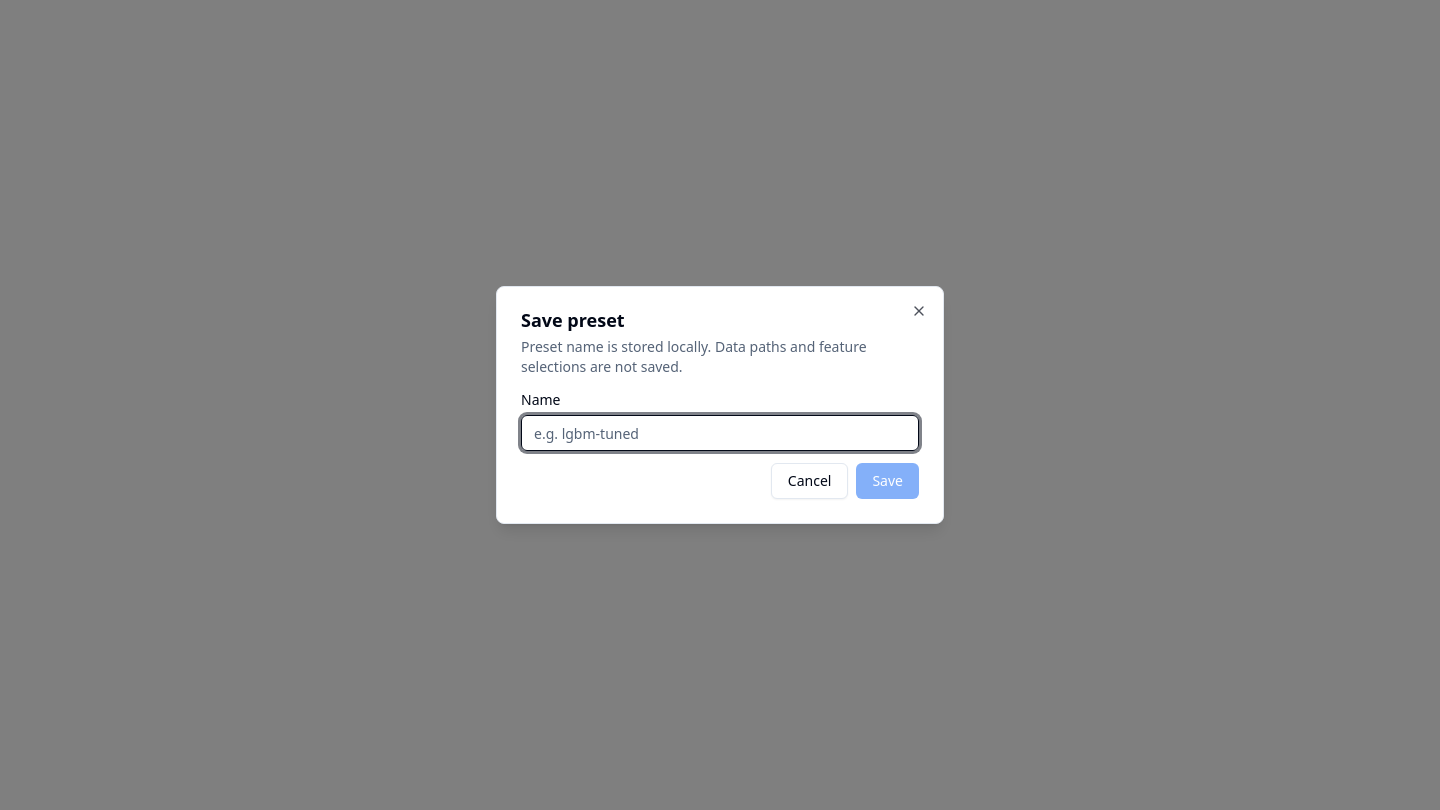
Test case: SavePresetDialog › rejects duplicate names with a visible error and blocks save
The width and height of the screenshot is (1440, 810).
In the field labelled "Name": [720, 433] box [521,415,919,451], type "dup"
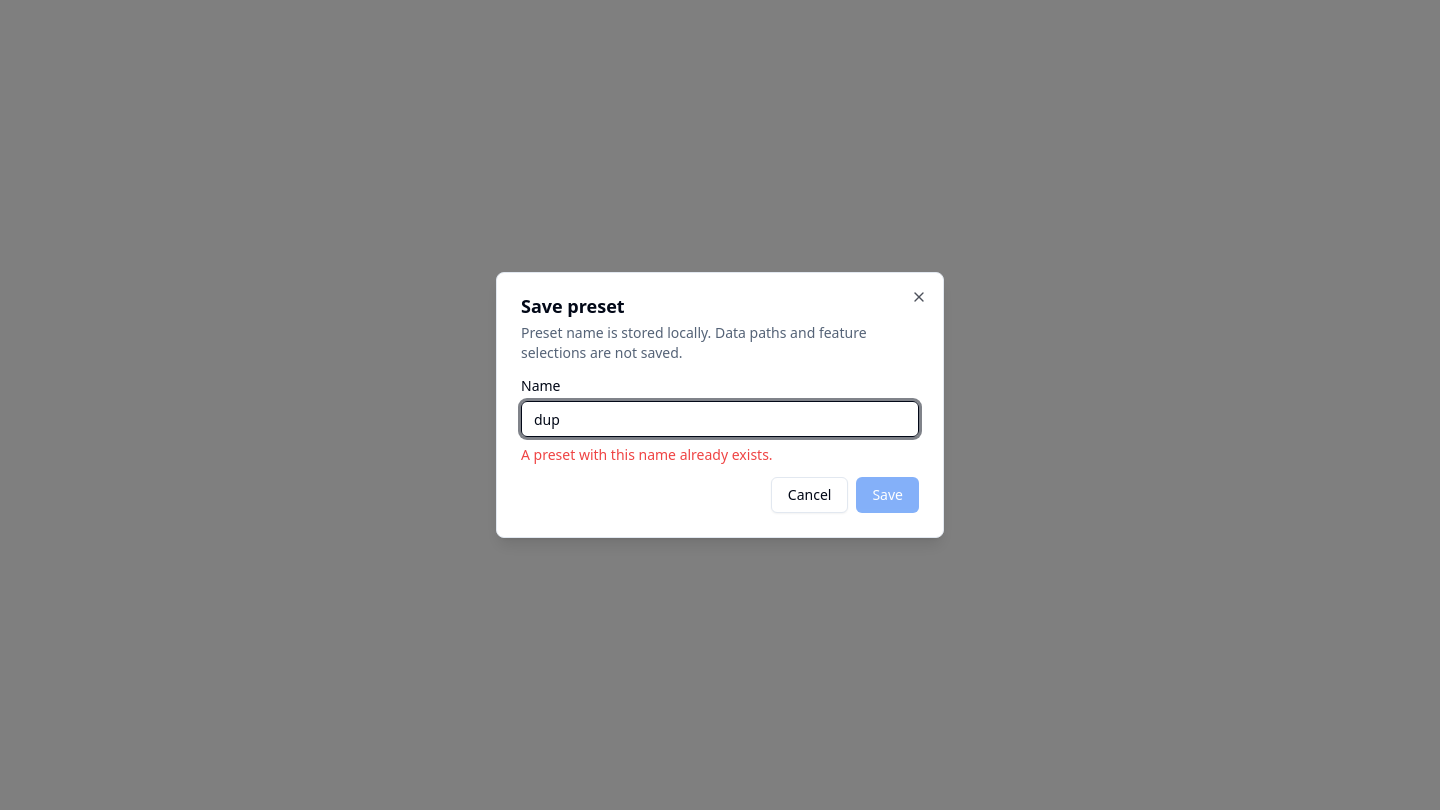
Expected: the button "Save" is disabled, [856,477,919,513]
Expected: the message shows "already exists", [521,445,773,464]
